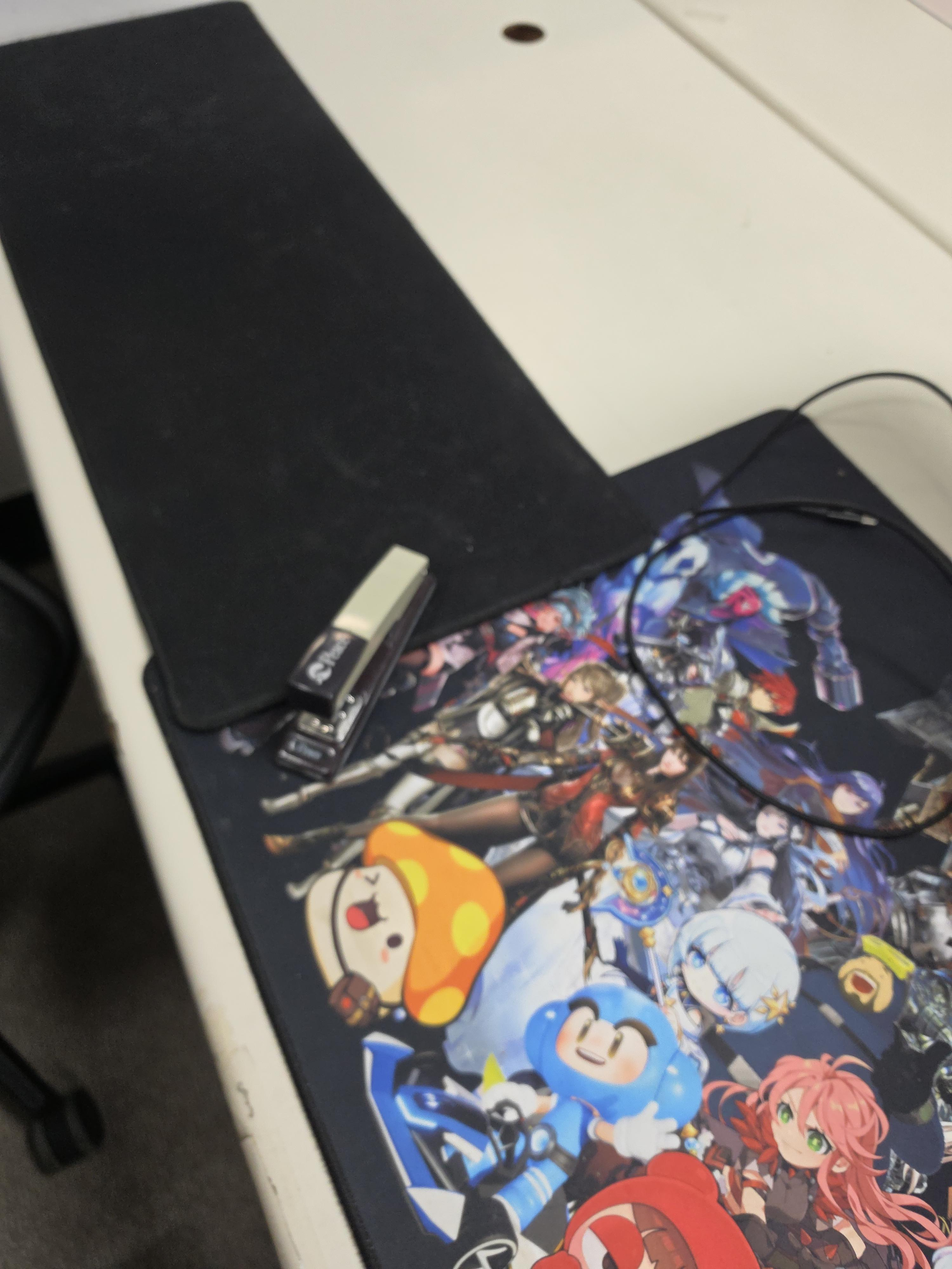stapler: (275, 545, 437, 783)
